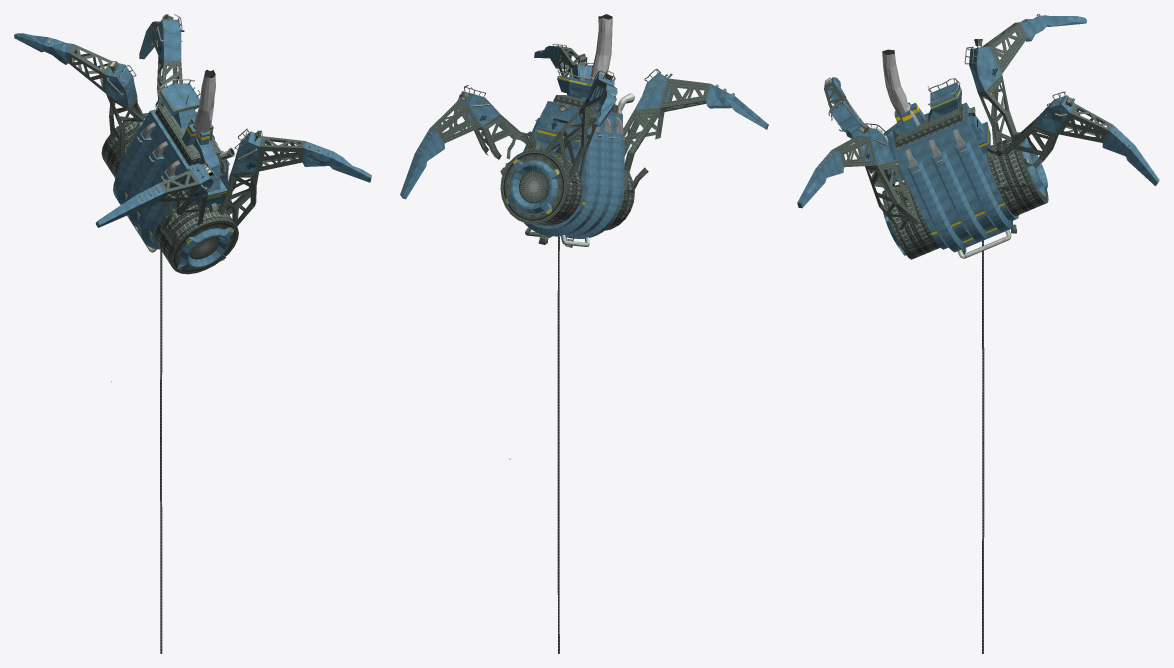
The model's file is C1SMXMININGWRECK_H.bgf.obj.
The picture shows the model from 3 angles, left to right: view 1: azimuth 30°, elevation 25°; view 2: azimuth 150°, elevation 25°; view 3: azimuth 270°, elevation 25°; orthographic projection. The views are drawn at different scales.
Visible parts, largest first — view 1: C1SMXMININGWRECK; view 2: C1SMXMININGWRECK; view 3: C1SMXMININGWRECK.
Part boxes in pixels (box(x1,y1,x2,y2)): C1SMXMININGWRECK: box(14, 14, 371, 653); C1SMXMININGWRECK: box(400, 14, 768, 653); C1SMXMININGWRECK: box(797, 14, 1159, 653).
Bounding box in the file's own units: 62.1 × 143 × 77.77.
10 materials, 10 textured.
